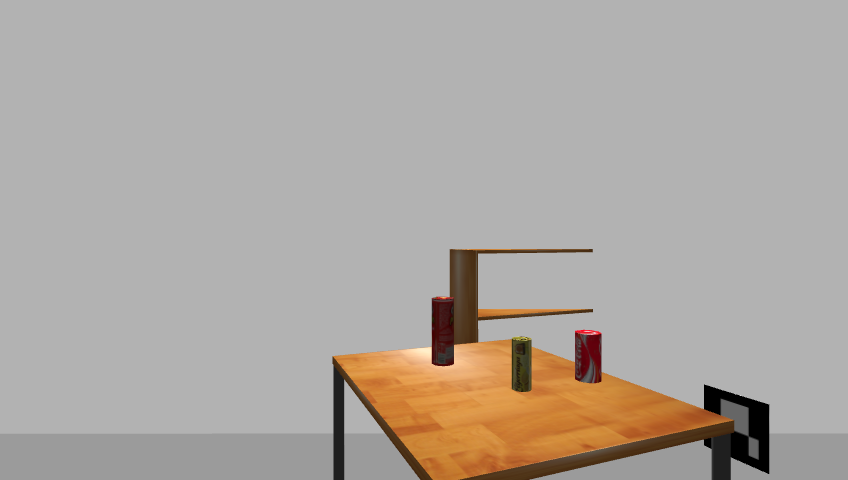aruco marker: (698, 383, 775, 476)
biscuits pack: (510, 336, 533, 393)
bookshelf: (445, 243, 599, 414)
coke can: (572, 330, 604, 385)
dinner table: (325, 342, 743, 480)
pringles can: (428, 295, 456, 368)
